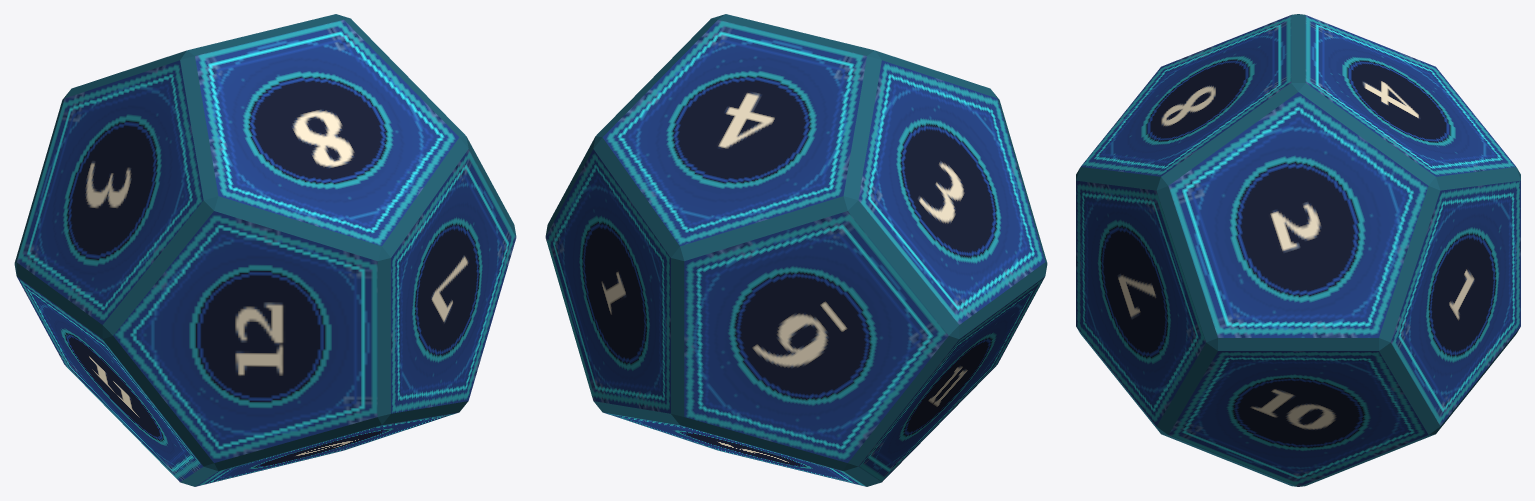
The picture shows the model from 3 angles, left to right: view 1: azimuth 30°, elevation 25°; view 2: azimuth 150°, elevation 25°; view 3: azimuth 270°, elevation 25°; orthographic projection. The views are drawn at different scales.
Bounding box in the file's own units: 165 × 165 × 165.
Materials: 1 (1 with a texture image).
